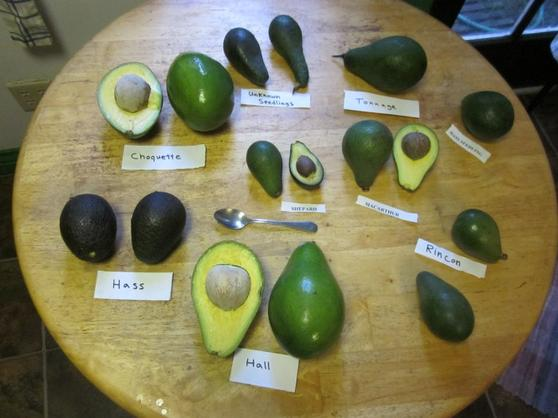avocado: (60, 188, 117, 262), (130, 190, 186, 263)
